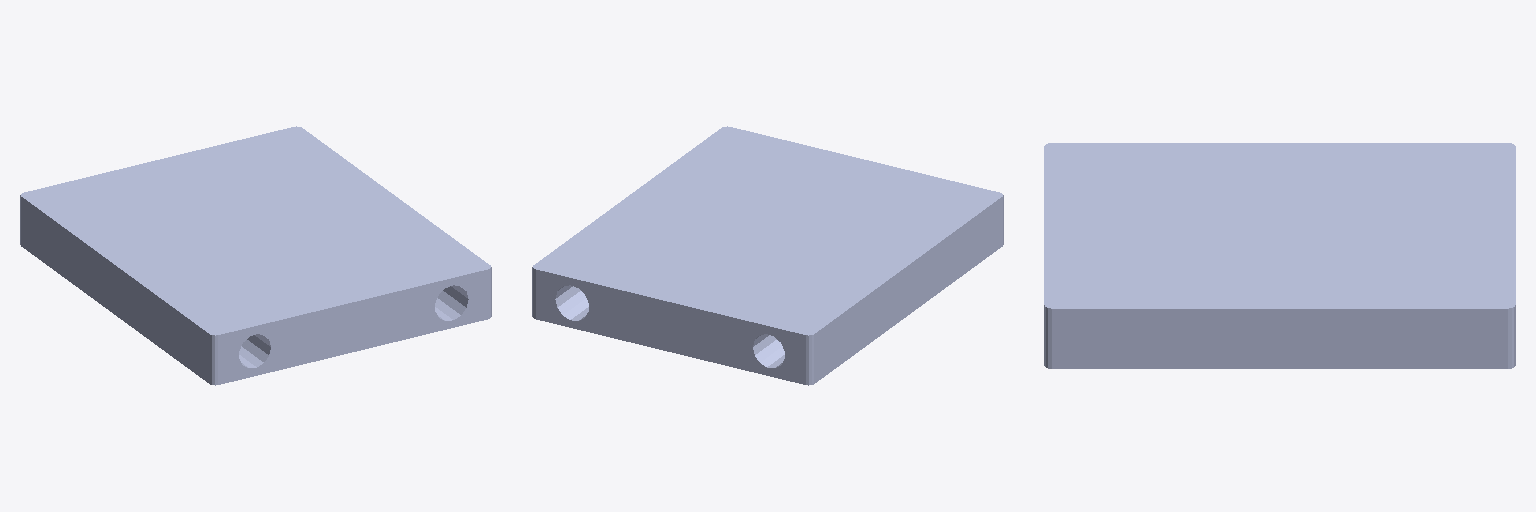
The robot description file, URDF, robot "myrobot":
<?xml version="1.0" encoding="utf-8"?>
<!-- This URDF was automatically created by SolidWorks to URDF Exporter! Originally created by [author] ([email redacted]) 
     Commit Version: 1.6.0-4-g7f85cfe  Build Version: 1.6.7995.38578
     For more information, please see http://wiki.ros.org/sw_urdf_exporter -->
<robot
  name="myrobot">
  <link
    name="base_link">
    <inertial>
      <origin
        xyz="-0.00118217937738441 -2.77555756156289E-17 -0.0425"
        rpy="0 0 0" />
      <mass
        value="22.250089741607" />
      <inertia
        ixx="0.681724587592901"
        ixy="-4.88641985523064E-17"
        ixz="1.82554140397768E-19"
        iyy="0.445417115774602"
        iyz="-2.07266398876814E-18"
        izz="1.09784177061851" />
    </inertial>
    <visual>
      <origin
        xyz="0 0 0"
        rpy="0 0 0" />
      <geometry>
        <mesh
          filename="package://robot_description/urdf/meshes/base_link.STL" />
      </geometry>
      <material
        name="">
        <color
          rgba="0.792156862745098 0.819607843137255 0.933333333333333 1" />
      </material>
    </visual>
    <collision>
      <origin
        xyz="0 0 0"
        rpy="0 0 0" />
      <geometry>
        <mesh
          filename="package://robot_description/urdf/meshes/base_link.STL" />
      </geometry>
    </collision>
  </link>
  <link
    name="front_left_wheel_link">
    <inertial>
      <origin
        xyz="-0.175363141464161 -0.329970407365908 0.000195502659905145"
        rpy="0 0 0" />
      <mass
        value="24.947602232463" />
      <inertia
        ixx="0.93887244092466"
        ixy="-0.000150353699578311"
        ixz="-0.000993306243107672"
        iyy="0.536276512768652"
        iyz="-4.23059198772847E-05"
        izz="1.43826991238428" />
    </inertial>
    <visual>
      <origin
        xyz="0 0 0"
        rpy="0 0 0" />
      <geometry>
        <mesh
          filename="package://robot_description/urdf/meshes/front_left_wheel_link.STL" />
      </geometry>
      <material
        name="">
        <color
          rgba="1 1 1 1" />
      </material>
    </visual>
    <collision>
      <origin
        xyz="0 0 0"
        rpy="0 0 0" />
      <geometry>
        <mesh
          filename="package://robot_description/urdf/meshes/front_left_wheel_link.STL" />
      </geometry>
    </collision>
  </link>
  <joint
    name="front_left_wheel_joint"
    type="continuous">
    <origin
      xyz="0.175 0.33 -0.0425"
      rpy="0 0 0" />
    <parent
      link="base_link" />
    <child
      link="front_left_wheel_link" />
    <axis
      xyz="0 1 0" />
    <limit
      effort="1"
      velocity="1" />
  </joint>
  <link
    name="front_right_wheel_link">
    <inertial>
      <origin
        xyz="-0.175363141464162 0.330029592634093 0.000195502659905034"
        rpy="0 0 0" />
      <mass
        value="24.947602232463" />
      <inertia
        ixx="0.93887244092466"
        ixy="-0.000150353699578311"
        ixz="-0.000993306243107673"
        iyy="0.536276512768652"
        iyz="-4.23059198772847E-05"
        izz="1.43826991238428" />
    </inertial>
    <visual>
      <origin
        xyz="0 0 0"
        rpy="0 0 0" />
      <geometry>
        <mesh
          filename="package://robot_description/urdf/meshes/front_right_wheel_link.STL" />
      </geometry>
      <material
        name="">
        <color
          rgba="1 1 1 1" />
      </material>
    </visual>
    <collision>
      <origin
        xyz="0 0 0"
        rpy="0 0 0" />
      <geometry>
        <mesh
          filename="package://robot_description/urdf/meshes/front_right_wheel_link.STL" />
      </geometry>
    </collision>
  </link>
  <joint
    name="front_right_wheel_joint"
    type="continuous">
    <origin
      xyz="0.175 -0.33 -0.0425"
      rpy="0 0 0" />
    <parent
      link="base_link" />
    <child
      link="front_right_wheel_link" />
    <axis
      xyz="0 1 0" />
    <limit
      effort="1"
      velocity="1" />
  </joint>
  <link
    name="rear_left_wheel_link">
    <inertial>
      <origin
        xyz="0.174636858535839 -0.329970407365908 0.000195502659904978"
        rpy="0 0 0" />
      <mass
        value="24.947602232463" />
      <inertia
        ixx="0.93887244092466"
        ixy="-0.000150353699578311"
        ixz="-0.000993306243107672"
        iyy="0.536276512768652"
        iyz="-4.23059198772847E-05"
        izz="1.43826991238428" />
    </inertial>
    <visual>
      <origin
        xyz="0 0 0"
        rpy="0 0 0" />
      <geometry>
        <mesh
          filename="package://robot_description/urdf/meshes/rear_left_wheel_link.STL" />
      </geometry>
      <material
        name="">
        <color
          rgba="1 1 1 1" />
      </material>
    </visual>
    <collision>
      <origin
        xyz="0 0 0"
        rpy="0 0 0" />
      <geometry>
        <mesh 
          filename="package://robot_description/urdf/meshes/rear_left_wheel_link.STL" />
      </geometry>
    </collision>
  </link>
  <joint
    name="rear_left_wheel_joint"
    type="continuous">
    <origin
      xyz="-0.175 0.33 -0.0425"
      rpy="0 0 0" />
    <parent
      link="base_link" />
    <child
      link="rear_left_wheel_link" />
    <axis
      xyz="0 1 0" />
    <limit
      effort="1"
      velocity="1" />
  </joint>
  <link
    name="rear_right_wheel_link">
    <inertial>
      <origin
        xyz="0.174636858535838 0.330029592634093 0.000195502659904923"
        rpy="0 0 0" />
      <mass
        value="24.947602232463" />
      <inertia
        ixx="0.93887244092466"
        ixy="-0.000150353699578311"
        ixz="-0.000993306243107672"
        iyy="0.536276512768652"
        iyz="-4.23059198772847E-05"
        izz="1.43826991238428" />
    </inertial>
    <visual>
      <origin
        xyz="0 0 0"
        rpy="0 0 0" />
      <geometry>
        <mesh 
          filename="package://robot_description/urdf/meshes/rear_right_wheel_link.STL"/>
      </geometry>
      <material
        name="">
        <color
          rgba="1 1 1 1" />
      </material>
    </visual>
    <collision>
      <origin
        xyz="0 0 0"
        rpy="0 0 0" />
      <geometry>
        <mesh 
          filename="package://robot_description/urdf/meshes/rear_right_wheel_link.STL"/>
      </geometry>
    </collision>
  </link>
  <joint
    name="rear_right_wheel_joint"
    type="continuous">
    <origin
      xyz="-0.175 -0.33 -0.0425"
      rpy="0 0 0" />
    <parent
      link="base_link" />
    <child
      link="rear_right_wheel_link" />
    <axis
      xyz="0 1 0" />
    <limit
      effort="1"
      velocity="1" />
  </joint>
</robot>

--- What the picture shows (computed from the rendered views, not written in the file) ---
3 views of the same robot in one strip: view 1: azimuth 30°, elevation 25°; view 2: azimuth 150°, elevation 25°; view 3: azimuth 270°, elevation 25° (orthographic).
Robot: myrobot — 5 links, 4 joints (4 continuous); root link base_link; default pose: all joints at 0.
Visible links, largest first — view 1: base_link; view 2: base_link; view 3: base_link.
Link boxes in pixels (x1=…): base_link: x1=20, y1=126, x2=491, y2=385; base_link: x1=532, y1=126, x2=1003, y2=385; base_link: x1=1044, y1=143, x2=1515, y2=368.
Size in the robot's own frame: 0.5 by 0.6 by 0.085 metres.
1 mesh visuals loaded from 5 distinct referenced files (1 binary STL); not drawn: 4 (file found but could not be loaded).